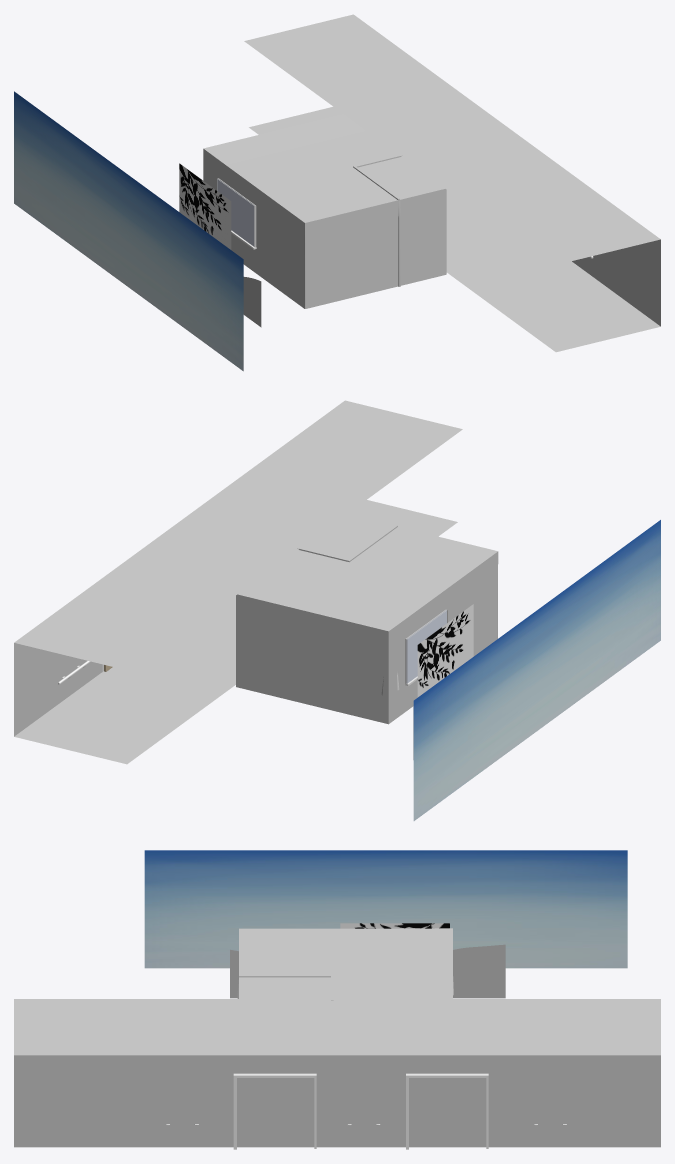
The model's file is MAP_Ending_Hospital_Ward_mesh_3_curtain.fbx.
3 renders of one model, top to bottom at view 1: azimuth 30°, elevation 25°; view 2: azimuth 150°, elevation 25°; view 3: azimuth 270°, elevation 25°, orthographic. The views are drawn at different scales.
Visible parts, largest first — view 1: Ward_Wall, Ward_Main_Room, pPlane1, pasted__pPlane2, pasted__ward_main_door_win, pasted__pPlane1, Ward_Toilet; view 2: Ward_Wall, Ward_Main_Room, pPlane1, pasted__pPlane2, pasted__ward_main_door_win; view 3: Ward_Wall, pPlane1, Ward_Main_Room, pasted__pPlane1, ward_door_Frame1, ward_door_Frame, pasted__pPlane2.
Boxes of the visible parts, box(x1,y1,x2,y2) form: Ward_Wall: box(244, 14, 660, 352); Ward_Main_Room: box(203, 114, 446, 308); pPlane1: box(14, 91, 243, 371); pasted__pPlane2: box(179, 163, 231, 249); pasted__ward_main_door_win: box(217, 178, 254, 246); pasted__pPlane1: box(243, 277, 261, 327); Ward_Toilet: box(353, 154, 403, 286); Ward_Wall: box(14, 400, 462, 764); Ward_Main_Room: box(236, 514, 498, 724); pPlane1: box(413, 520, 660, 820); pasted__pPlane2: box(417, 604, 473, 697); pasted__ward_main_door_win: box(406, 610, 446, 683); Ward_Wall: box(14, 999, 660, 1147); pPlane1: box(144, 850, 627, 968); Ward_Main_Room: box(239, 928, 452, 998); pasted__pPlane1: box(230, 944, 505, 998); ward_door_Frame1: box(233, 1073, 316, 1149); ward_door_Frame: box(406, 1073, 488, 1149); pasted__pPlane2: box(340, 923, 449, 928).
Bounding box in the file's own units: 2217 × 663 × 3288.
